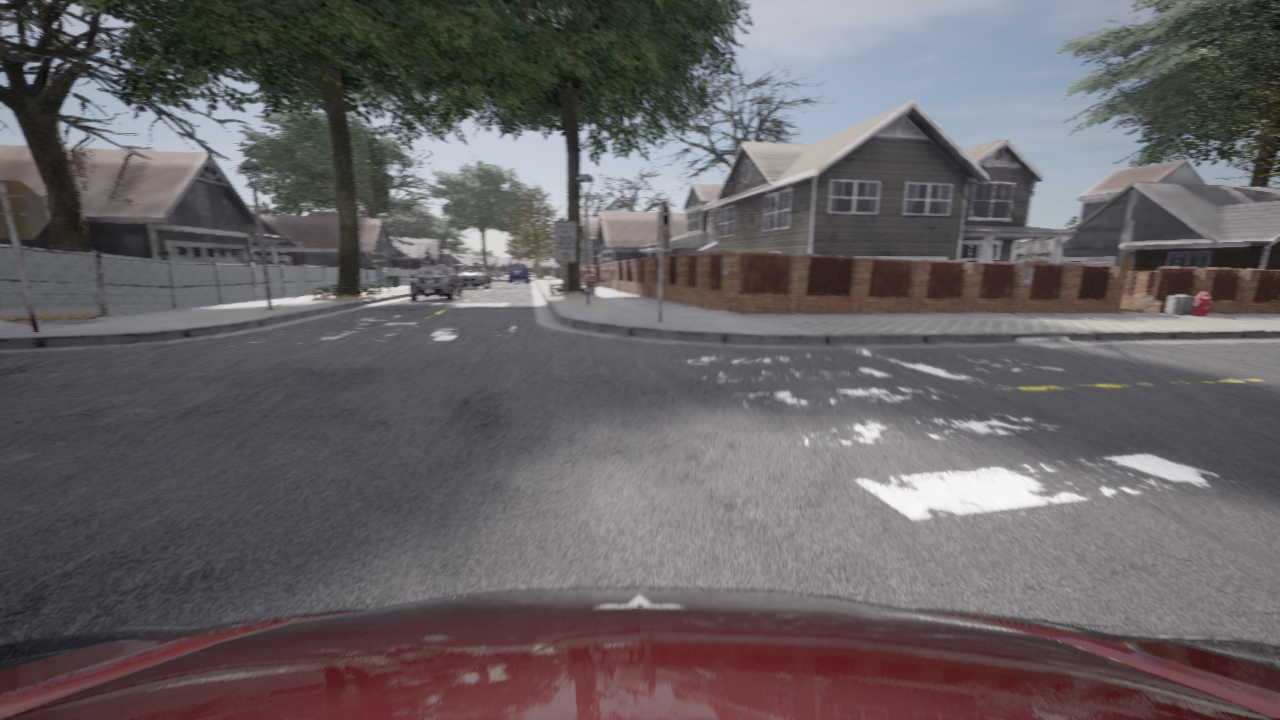cyclist: (0, 588, 1279, 719), (410, 264, 461, 300), (456, 265, 490, 288), (508, 264, 529, 282)
